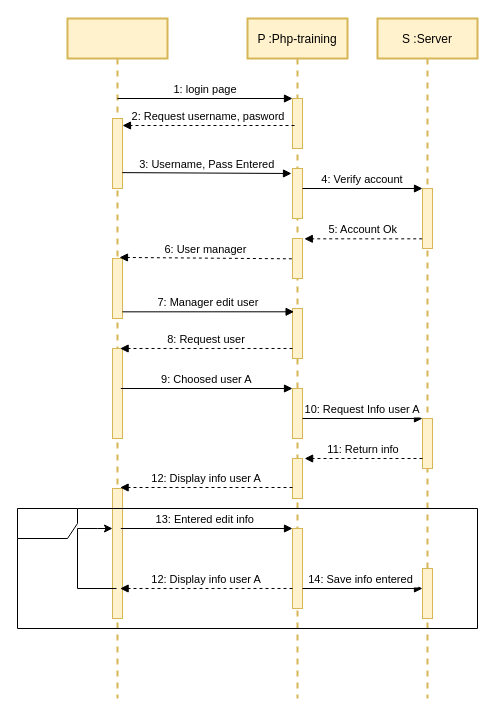
Some shapes in this 496 by 716 pixel diagram are drawn without their labels. Each missing label, with the centre of its shape:
A :Admin: pixel 117 358
if: pixel 247 568
